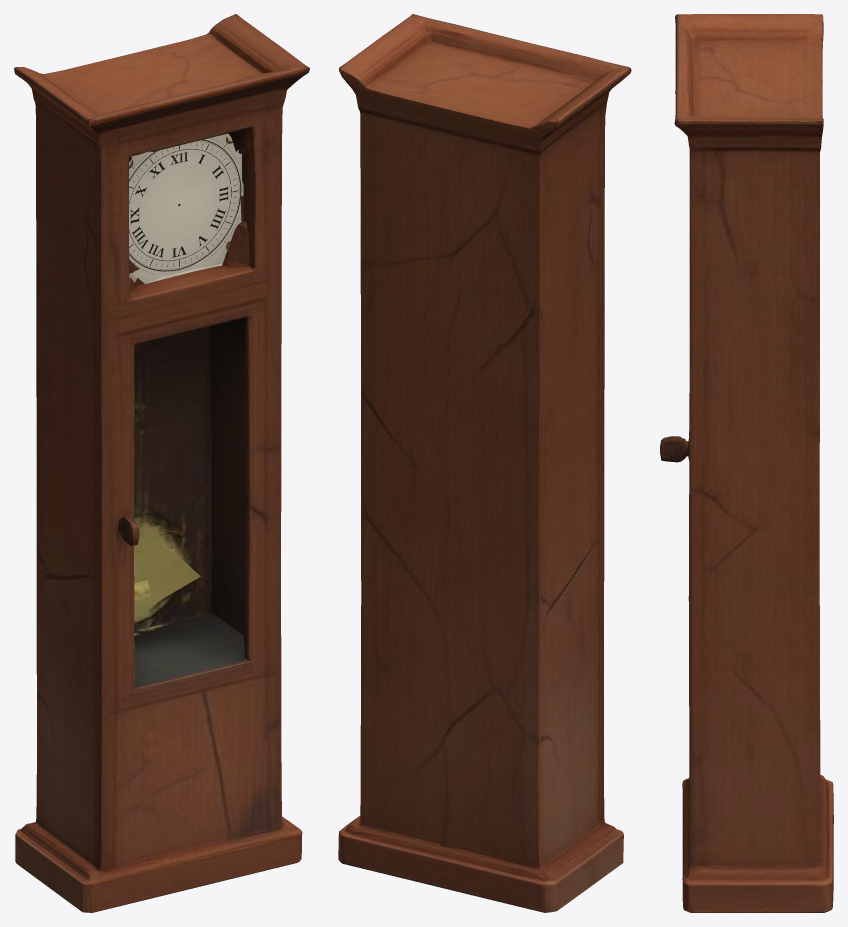
Rendered from clock.glb.
The picture shows the model from 3 angles, left to right: view 1: azimuth 30°, elevation 25°; view 2: azimuth 150°, elevation 25°; view 3: azimuth 270°, elevation 25°; orthographic projection.
Visible parts, largest first — view 1: geometry_0; view 2: geometry_0; view 3: geometry_0.
Boxes of the visible parts, x1,y1,x2,y2 form: geometry_0: [14, 14, 309, 912]; geometry_0: [338, 14, 631, 912]; geometry_0: [660, 14, 833, 912].
Bounding box in the file's own units: 0.2916 × 1 × 0.1988.
2 materials, 2 textured.
